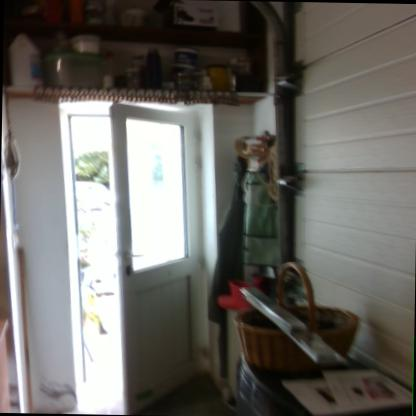semi: (40, 90, 224, 416)
